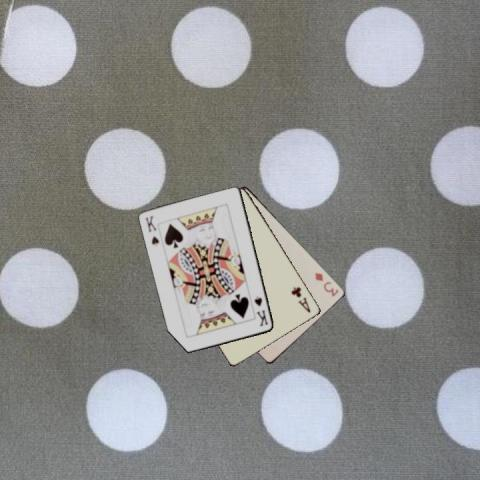3d: (312, 269, 340, 298)
Ac: (289, 284, 312, 314)
Ks: (252, 293, 270, 328), (142, 214, 160, 248)
